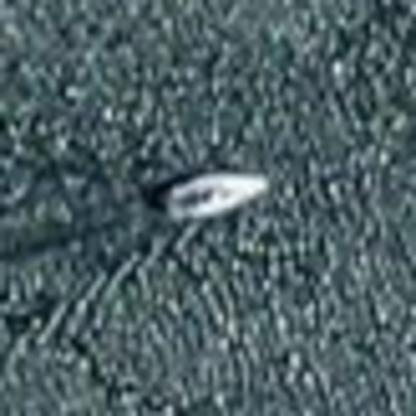ship: (144, 162, 276, 230)
